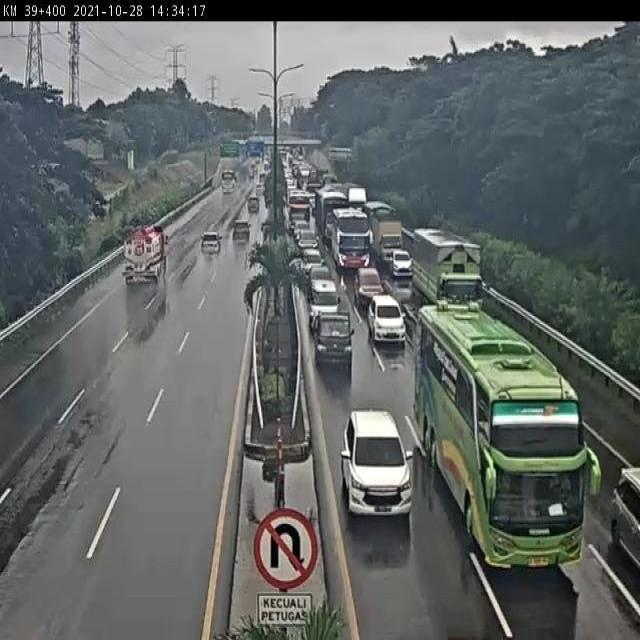big bus: (415, 307, 600, 572), (330, 205, 370, 263), (314, 190, 347, 242), (285, 191, 313, 232), (215, 168, 238, 200)
big truck: (404, 222, 486, 314), (364, 202, 404, 266)
car: (337, 412, 415, 520), (123, 228, 171, 285), (312, 309, 355, 364), (364, 293, 404, 343), (302, 260, 335, 296), (355, 268, 385, 305), (198, 230, 221, 262), (231, 217, 253, 247), (393, 249, 413, 280), (297, 238, 318, 266), (296, 224, 318, 248), (242, 202, 261, 226), (302, 250, 323, 270), (292, 220, 309, 240)
